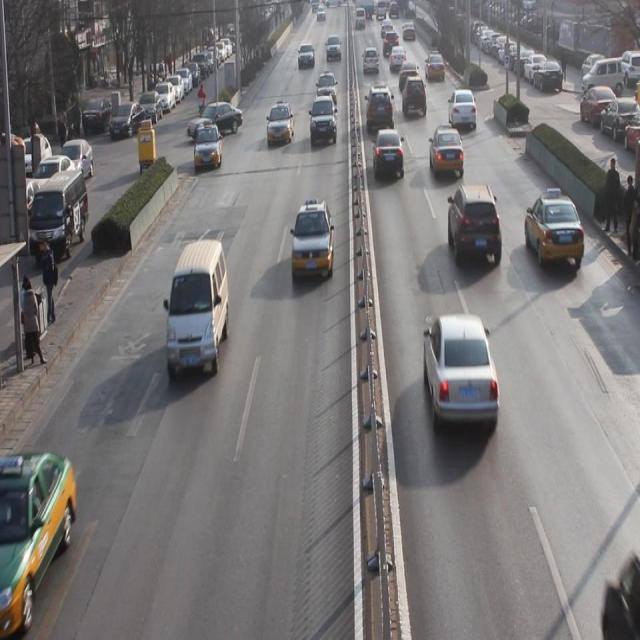car: (1, 453, 74, 622), (422, 315, 501, 439), (525, 193, 585, 276), (451, 186, 502, 273), (291, 200, 335, 284), (430, 127, 465, 181), (373, 127, 403, 181), (310, 98, 337, 149), (366, 87, 393, 135), (195, 126, 222, 174), (267, 102, 294, 148), (448, 91, 478, 132), (316, 74, 338, 112), (404, 77, 425, 116), (297, 44, 316, 70)
truck: (168, 244, 230, 378)
